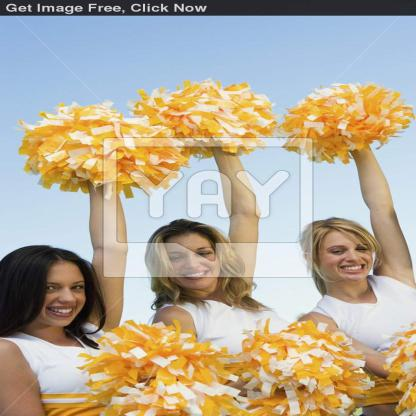face: (34, 263, 85, 328), (163, 237, 218, 290), (321, 233, 376, 283)
